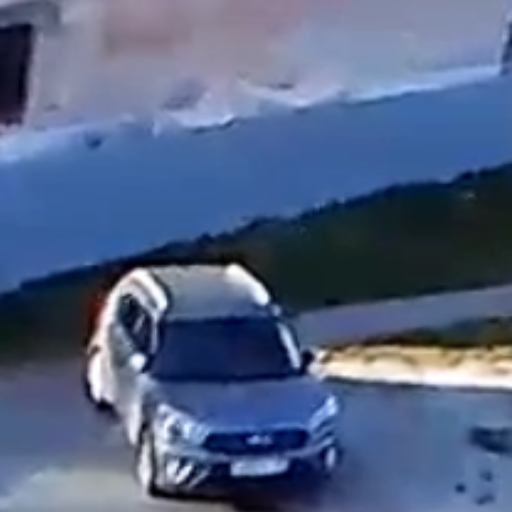Car: (83, 264, 342, 490)
